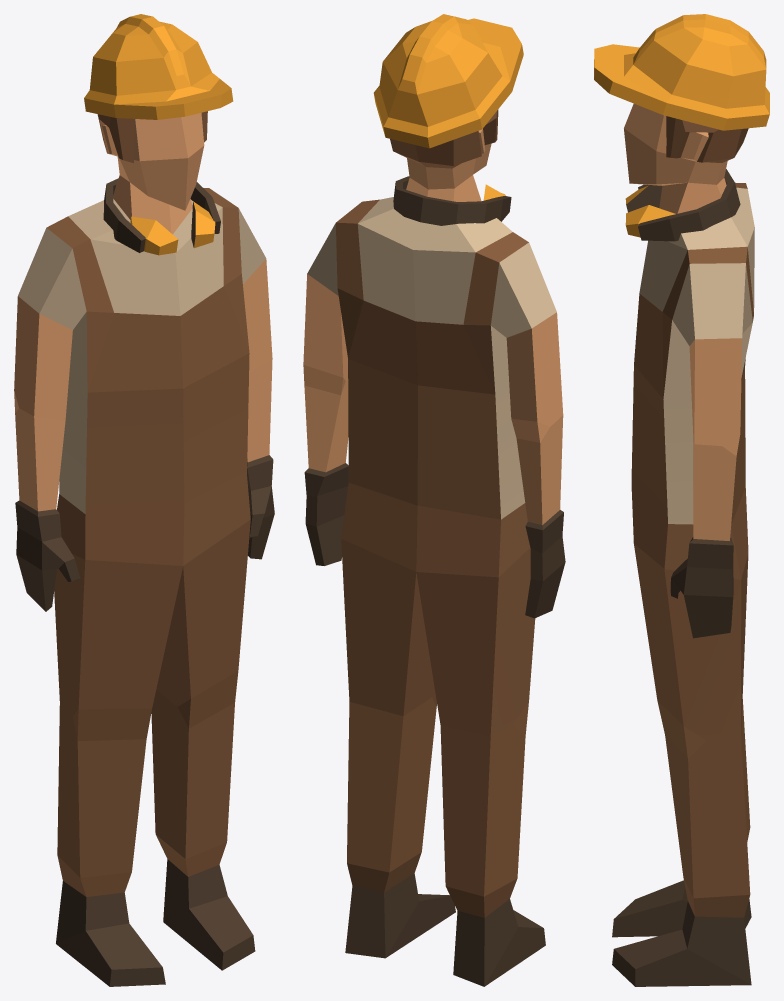
The model's file is people_man-construction-worker.fbx.
3 views of the same model, side by side, from view 1: azimuth 30°, elevation 25°; view 2: azimuth 150°, elevation 25°; view 3: azimuth 270°, elevation 25° (orthographic).
Parts seen in each view (by area): view 1: people_man_construction_worker; view 2: people_man_construction_worker; view 3: people_man_construction_worker.
Part boxes in pixels (bbox=[...]): people_man_construction_worker: bbox=[14, 14, 274, 986]; people_man_construction_worker: bbox=[303, 14, 565, 986]; people_man_construction_worker: bbox=[594, 14, 769, 986].
Size of the model in its own units: 54.37 by 200 by 34.09.
